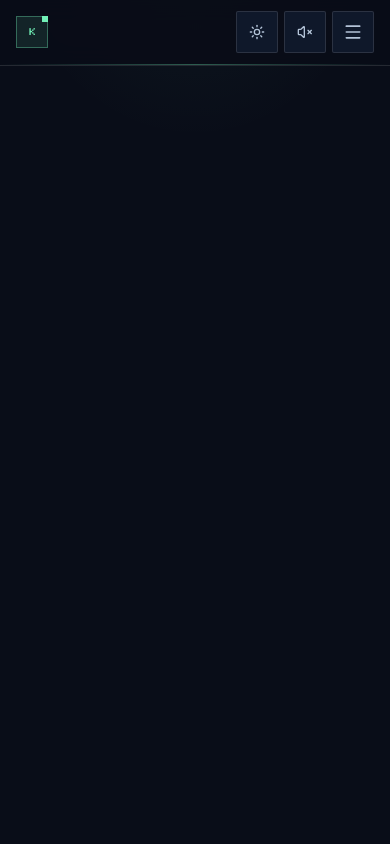
<TopBar /> › opens mobile navigation drawer on toggle
Click the button named "open navigation menu": [353, 32] box [332,11,374,53]
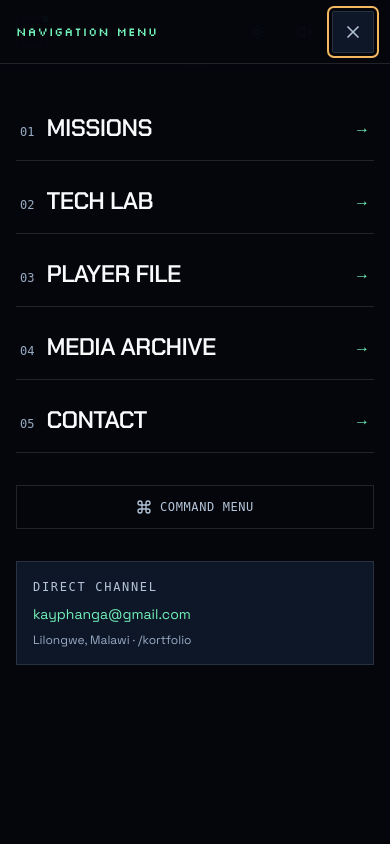
Expected: the dialog "Navigation Menu" is shown
